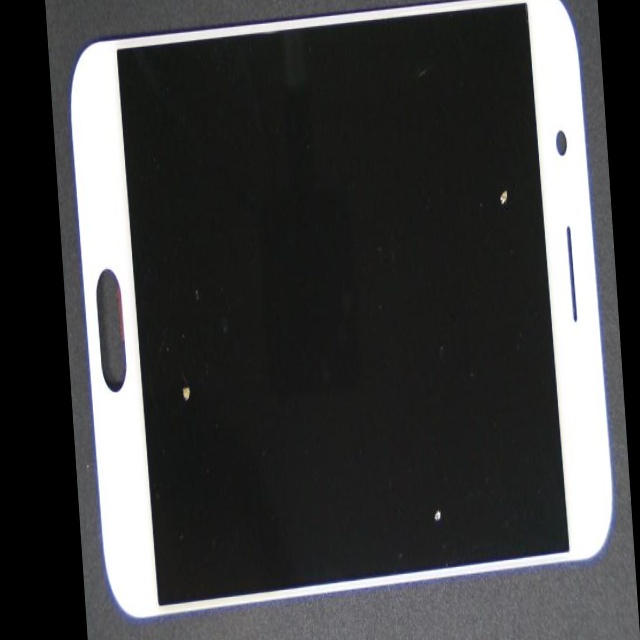stain: (251, 178, 614, 640), (259, 27, 622, 382), (113, 132, 246, 616)
